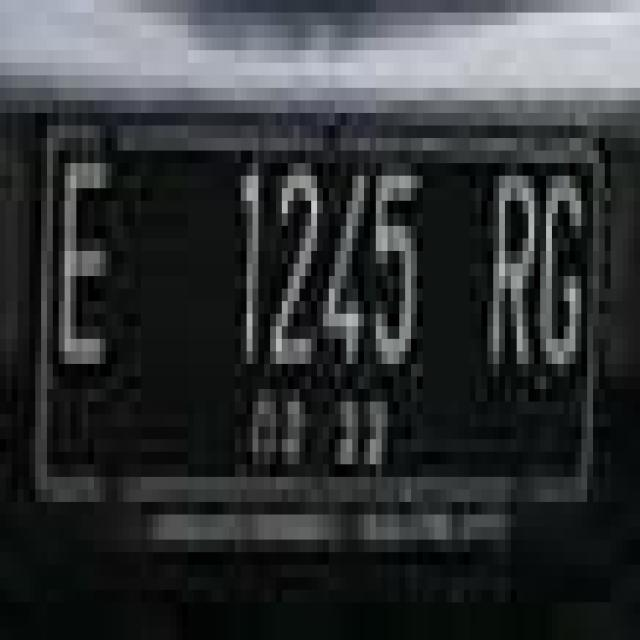1: (231, 161, 268, 370)
2: (267, 164, 329, 370)
4: (318, 162, 376, 373)
5: (367, 158, 432, 374)
E: (56, 151, 119, 379)
G: (537, 158, 593, 387)
R: (486, 161, 543, 385)
